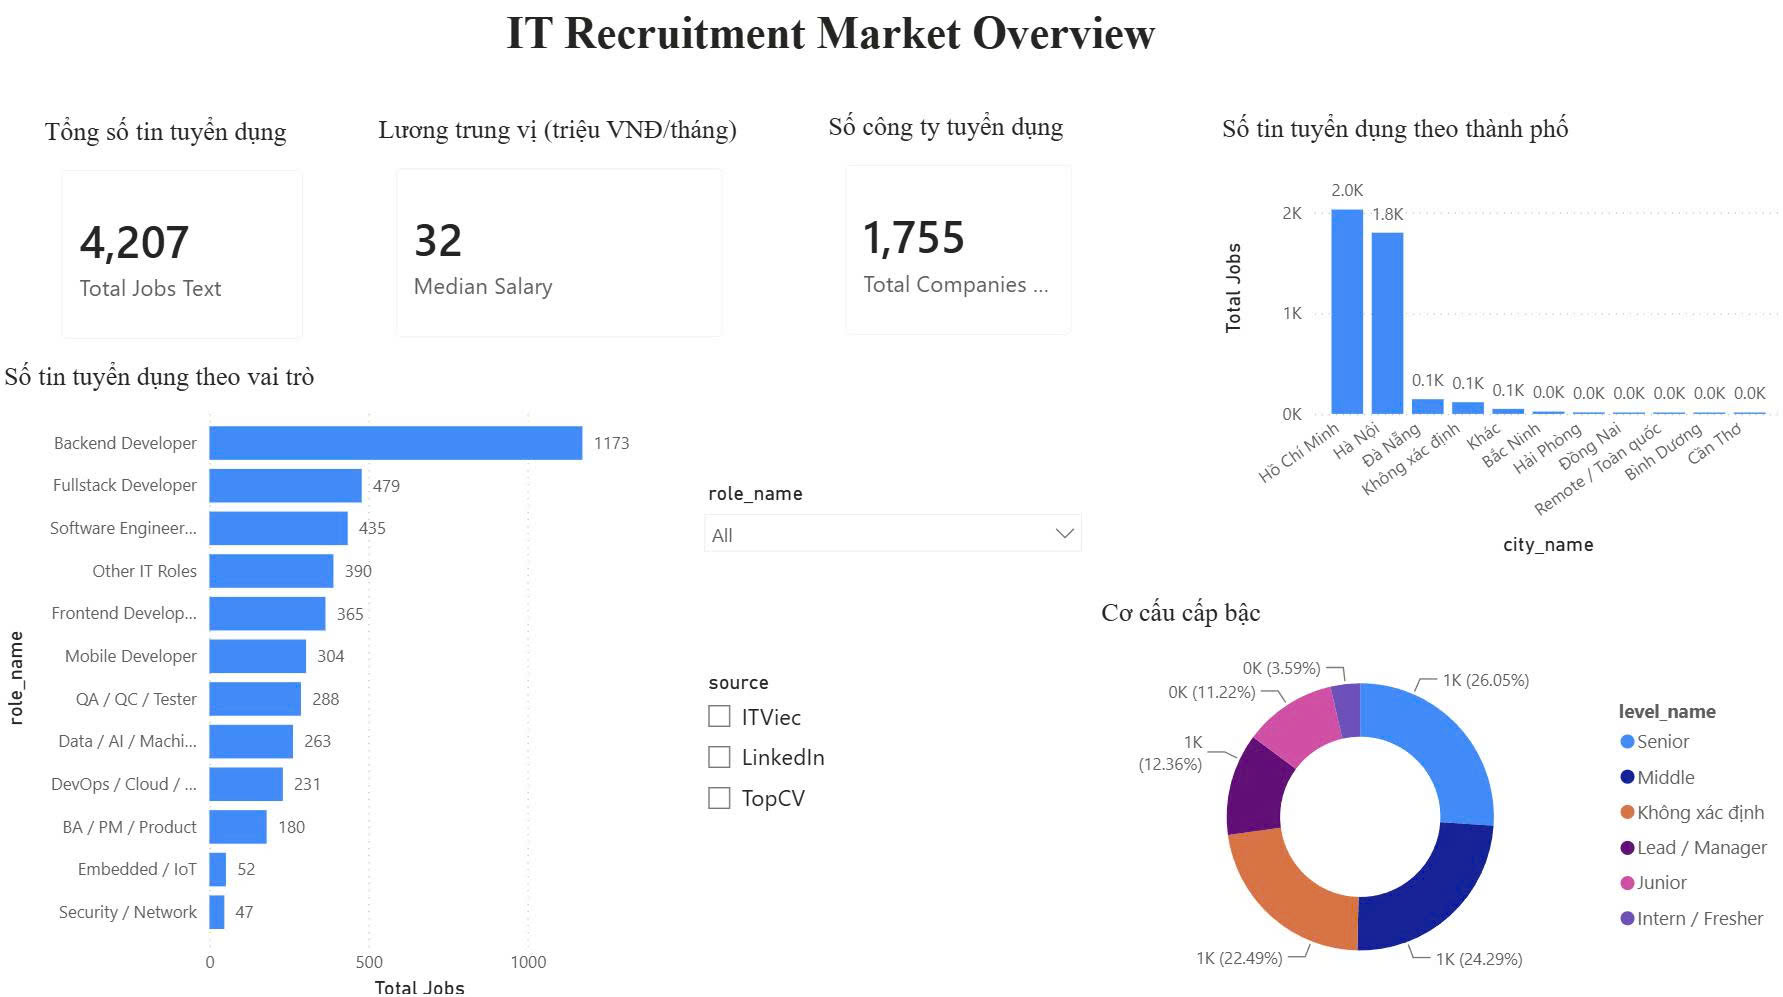

The page's visual inventory and layout, read from the dashboard file:
{"tool":"powerbi","page":{"name":"Overview","canvas":[1280,720],"ordinal":0},"visuals":[{"type":"textbox","box":[358.9,1.7,484.9,96.6],"z":0},{"type":"cardVisual","title":"Tổng số tin tuyển dụng","fields":{"Data":["fact_job_postings.Total Jobs Text"]},"box":[29.3,84.6,207.1,176],"z":1000},{"type":"cardVisual","title":"Lương trung vị (triệu VNĐ/tháng)","fields":{"Data":["fact_job_postings.Median Salary"]},"box":[268,84,268,176],"z":2000},{"type":"cardVisual","title":"Số công ty tuyển dụng","fields":{"Data":["fact_job_postings.Total Companies Text"]},"box":[588.3,81.7,196.7,176.7],"z":3000},{"type":"clusteredBarChart","title":"Số tin tuyển dụng theo vai trò","fields":{"Category":["dim_role.role_name"],"Y":["fact_job_postings.Total Jobs"]},"box":[0,260,470,460],"z":4000},{"type":"clusteredColumnChart","title":"Số tin tuyển dụng theo thành phố","fields":{"Category":["dim_city.city_name"],"Y":["fact_job_postings.Total Jobs"]},"box":[870,82,410,320],"z":5000},{"type":"donutChart","title":"Cơ cấu cấp bậc","fields":{"Category":["dim_level.level_name"],"Y":["fact_job_postings.Total Jobs"]},"box":[784.3,428.6,495.7,291.4],"z":6000},{"type":"slicer","fields":{"Values":["fact_job_postings.source"]},"box":[495,475,290,175],"z":7000},{"type":"slicer","fields":{"Values":["dim_role.role_name"]},"box":[495,340,290,123.3],"z":8000}]}

Visuals, with their boxes in screenshot pixels (x1, y1, x2, y2), scaled from the page's 1280x720 canvas onto the 1783x997 screenshot:
textbox: region(500, 2, 1175, 136)
"Tổng số tin tuyển dụng" cardVisual: region(41, 117, 329, 361)
"Lương trung vị (triệu VNĐ/tháng)" cardVisual: region(373, 116, 747, 360)
"Số công ty tuyển dụng" cardVisual: region(819, 113, 1093, 358)
"Số tin tuyển dụng theo vai trò" clusteredBarChart: region(0, 360, 655, 996)
"Số tin tuyển dụng theo thành phố" clusteredColumnChart: region(1212, 114, 1782, 557)
"Cơ cấu cấp bậc" donutChart: region(1093, 593, 1782, 996)
slicer - fact_job_postings.source: region(690, 658, 1093, 900)
slicer - dim_role.role_name: region(690, 471, 1093, 642)
